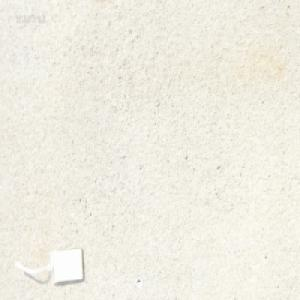LuggageTag: (22, 243, 84, 285)
